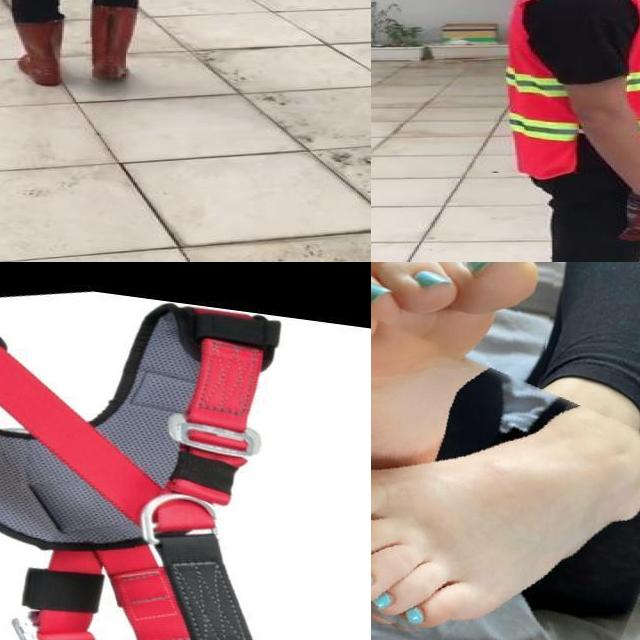Barefoots: (371, 395, 640, 640), (371, 262, 528, 538)
Harness: (0, 304, 280, 640)
boots: (87, 3, 142, 81), (8, 17, 66, 86)
hand_glove: (616, 194, 640, 241)
person: (470, 0, 640, 262), (0, 0, 180, 101)
vest: (506, 0, 640, 180)
